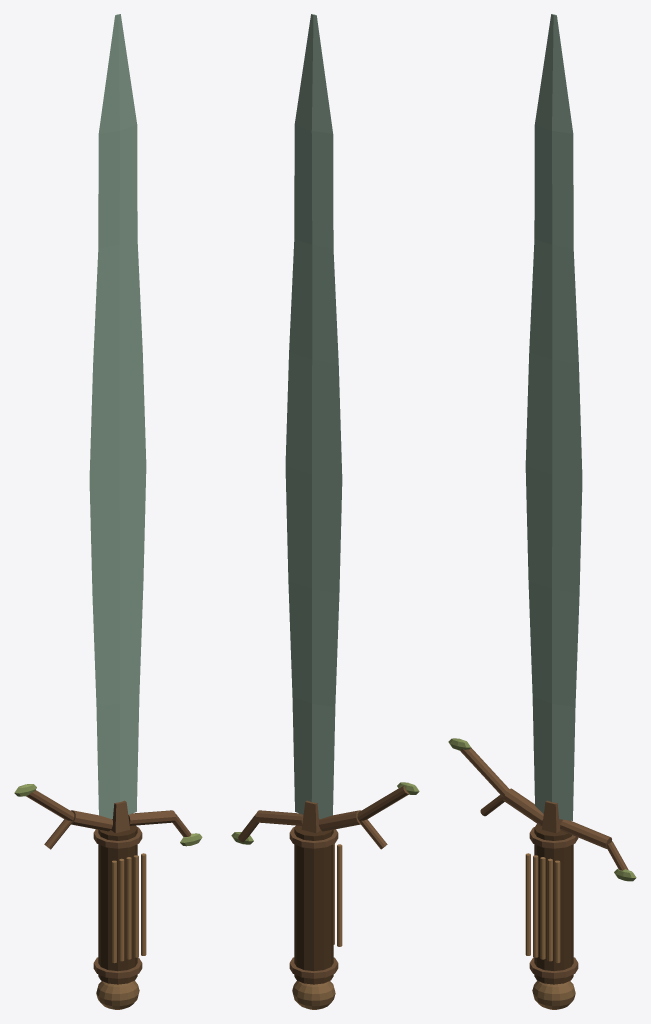
Rendered from virelune.glb.
The picture shows the model from 3 angles, left to right: view 1: azimuth 30°, elevation 25°; view 2: azimuth 150°, elevation 25°; view 3: azimuth 330°, elevation 25°; orthographic projection.
Parts seen in each view (by area): view 1: Blade, Grip, Pommel, WoodScale03, WoodScale01, WoodScale02, WoodScale04, GuardArm00, GuardArm02, GuardArm03, WoodScale00, GripCollar01 (+2 smaller); view 2: Blade, Grip, Pommel, GuardArm03, WoodScale00, GuardArm00, GuardArm02, GripCollar01, Guard, GripCollar00; view 3: Blade, Grip, Pommel, GuardArm00, GuardArm03, GuardArm02, WoodScale01, WoodScale00, WoodScale02, WoodScale03, WoodScale04, Guard (+2 smaller).
Part boxes in pixels (x1=…): Blade: x1=89, y1=14, x2=146, y2=819; Grip: x1=98, y1=825, x2=137, y2=984; Pommel: x1=96, y1=980, x2=139, y2=1009; WoodScale03: x1=133, y1=855, x2=138, y2=957; WoodScale01: x1=119, y1=858, x2=124, y2=961; WoodScale02: x1=126, y1=857, x2=131, y2=959; WoodScale04: x1=141, y1=853, x2=146, y2=955; GuardArm00: x1=128, y1=810, x2=175, y2=825; GuardArm02: x1=71, y1=810, x2=112, y2=831; GuardArm03: x1=26, y1=790, x2=74, y2=821; WoodScale00: x1=112, y1=860, x2=116, y2=963; GripCollar01: x1=93, y1=957, x2=142, y2=978; Blade: x1=285, y1=14, x2=342, y2=818; Grip: x1=294, y1=825, x2=333, y2=984; Pommel: x1=292, y1=980, x2=335, y2=1009; GuardArm03: x1=357, y1=786, x2=409, y2=820; WoodScale00: x1=337, y1=844, x2=342, y2=946; GuardArm00: x1=256, y1=810, x2=303, y2=825; GuardArm02: x1=318, y1=810, x2=360, y2=831; GripCollar01: x1=289, y1=957, x2=338, y2=978; Guard: x1=301, y1=800, x2=320, y2=833; GripCollar00: x1=289, y1=827, x2=338, y2=848; Blade: x1=525, y1=14, x2=582, y2=820; Grip: x1=534, y1=824, x2=573, y2=984; Pommel: x1=532, y1=980, x2=575, y2=1009; GuardArm00: x1=560, y1=819, x2=611, y2=848; GuardArm03: x1=460, y1=747, x2=509, y2=797; GuardArm02: x1=503, y1=788, x2=543, y2=825; WoodScale01: x1=533, y1=855, x2=538, y2=957; WoodScale00: x1=525, y1=853, x2=530, y2=955; WoodScale02: x1=540, y1=857, x2=545, y2=959; WoodScale03: x1=547, y1=858, x2=552, y2=961; WoodScale04: x1=555, y1=860, x2=560, y2=963; Guard: x1=541, y1=800, x2=562, y2=833.
Bounding box in the file's own units: 0.206 × 1.04 × 0.0465.
